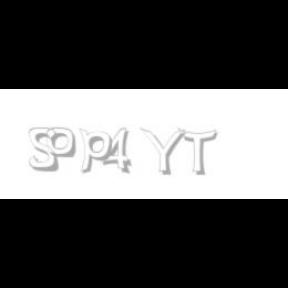4: (101, 128, 132, 174)
S: (29, 128, 60, 172)
T: (177, 128, 217, 176)
Y: (140, 128, 186, 176)
o: (46, 128, 76, 158)
p: (79, 128, 116, 174)
